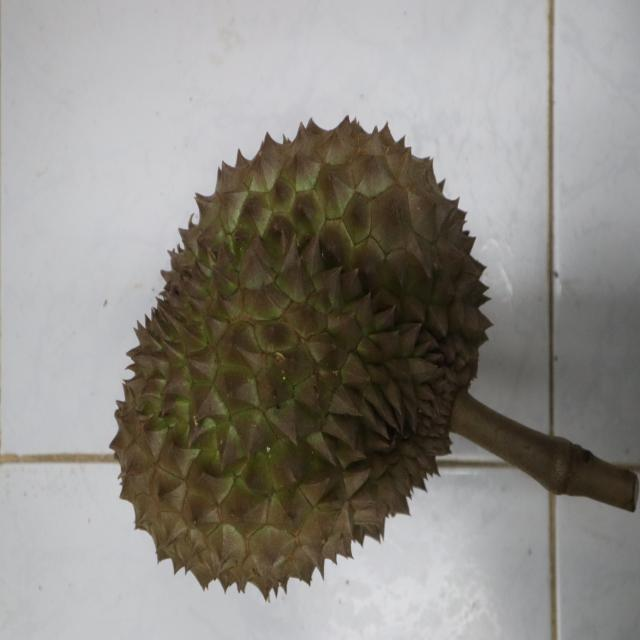mature: (109, 112, 493, 598)
